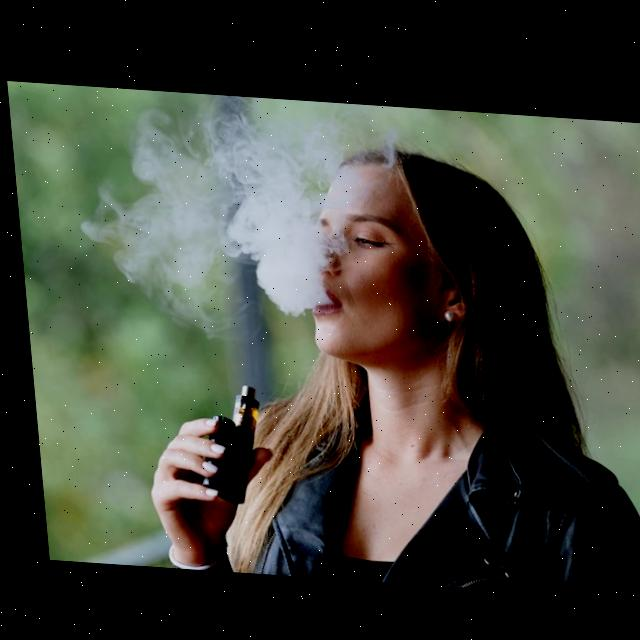vape: (186, 378, 260, 502)
